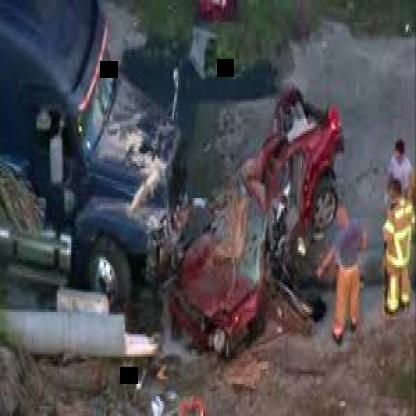accident: (16, 2, 344, 372)
